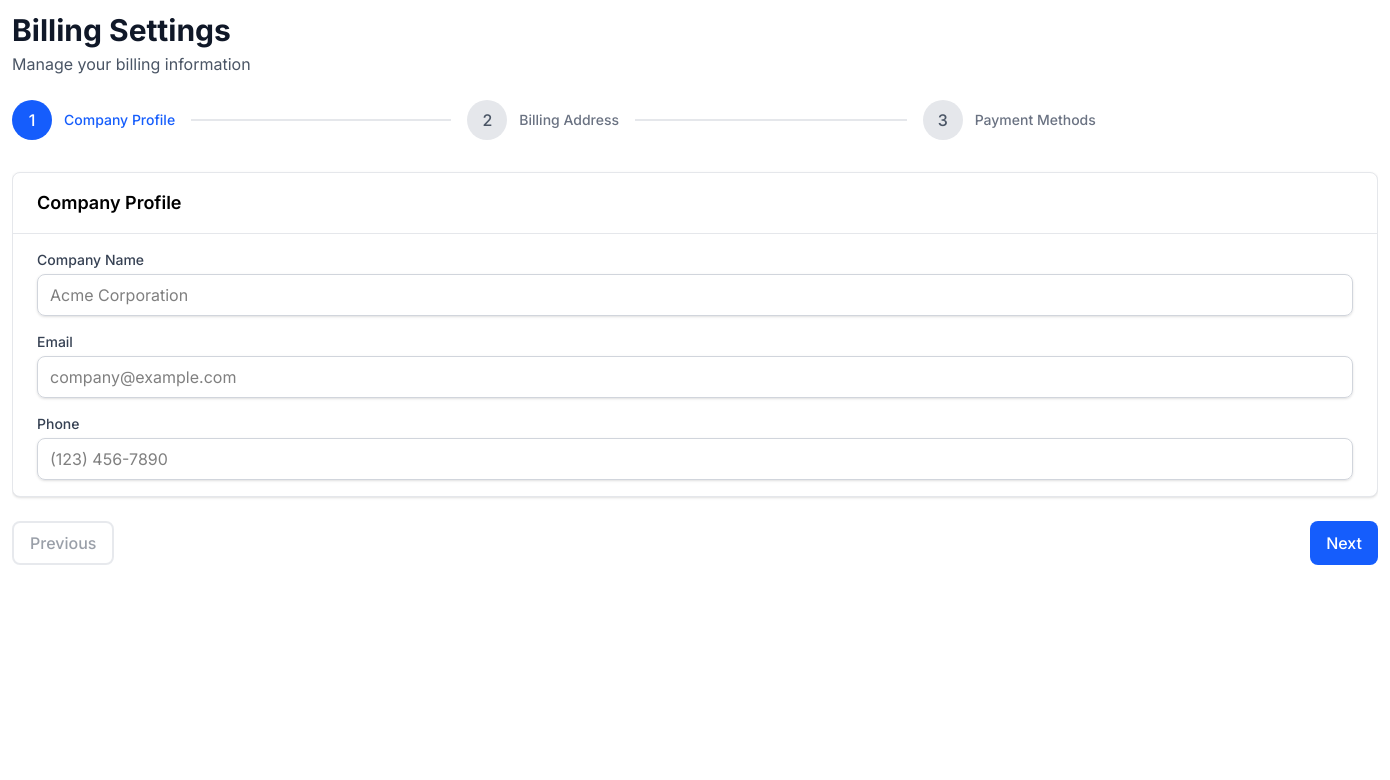
it: BillingFormPage › Step 1 - Company Profile › shows validation error when phone is empty
The width and height of the screenshot is (1390, 780).
In the field labelled "Company Name": (695, 295) x1=37 y1=274 x2=1353 y2=316, type "Test Company"
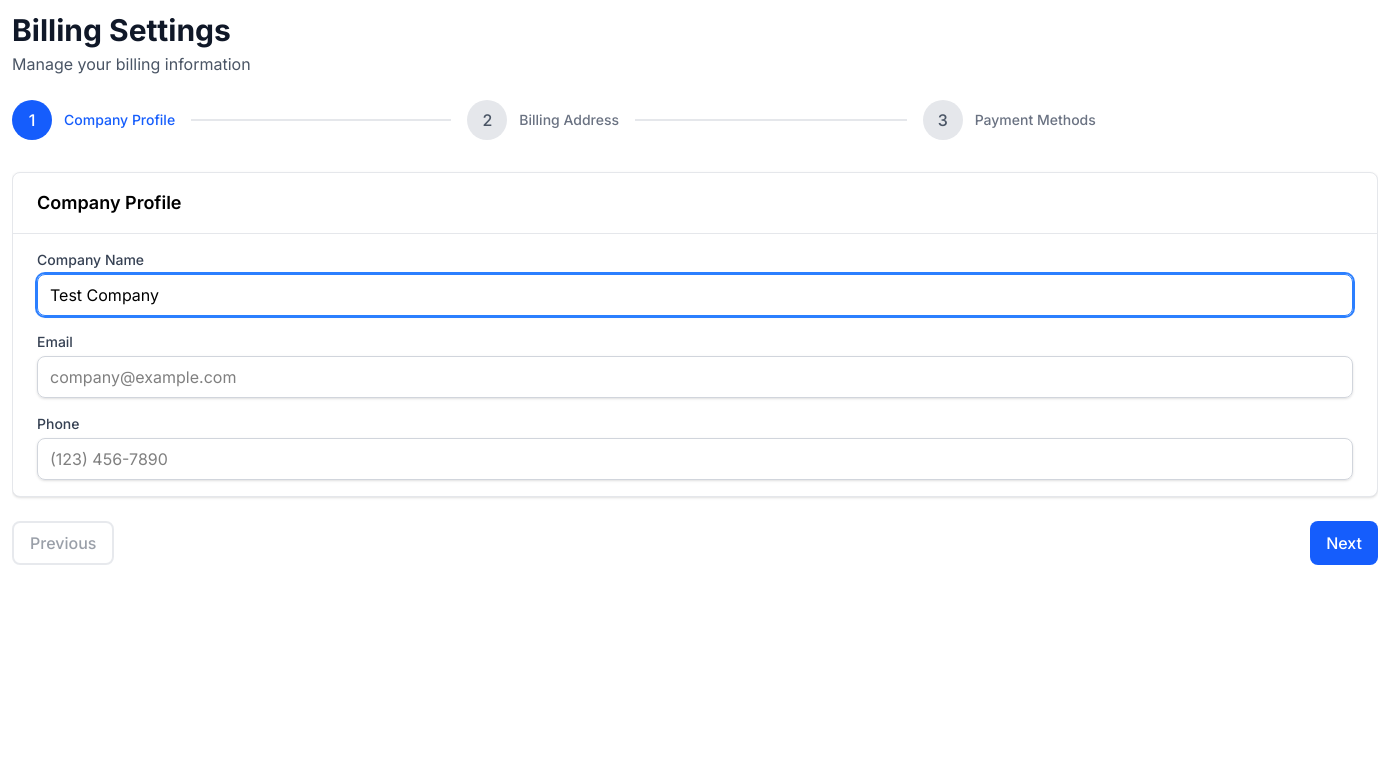
Click the button "Next": (1344, 543) x1=1310 y1=521 x2=1378 y2=565
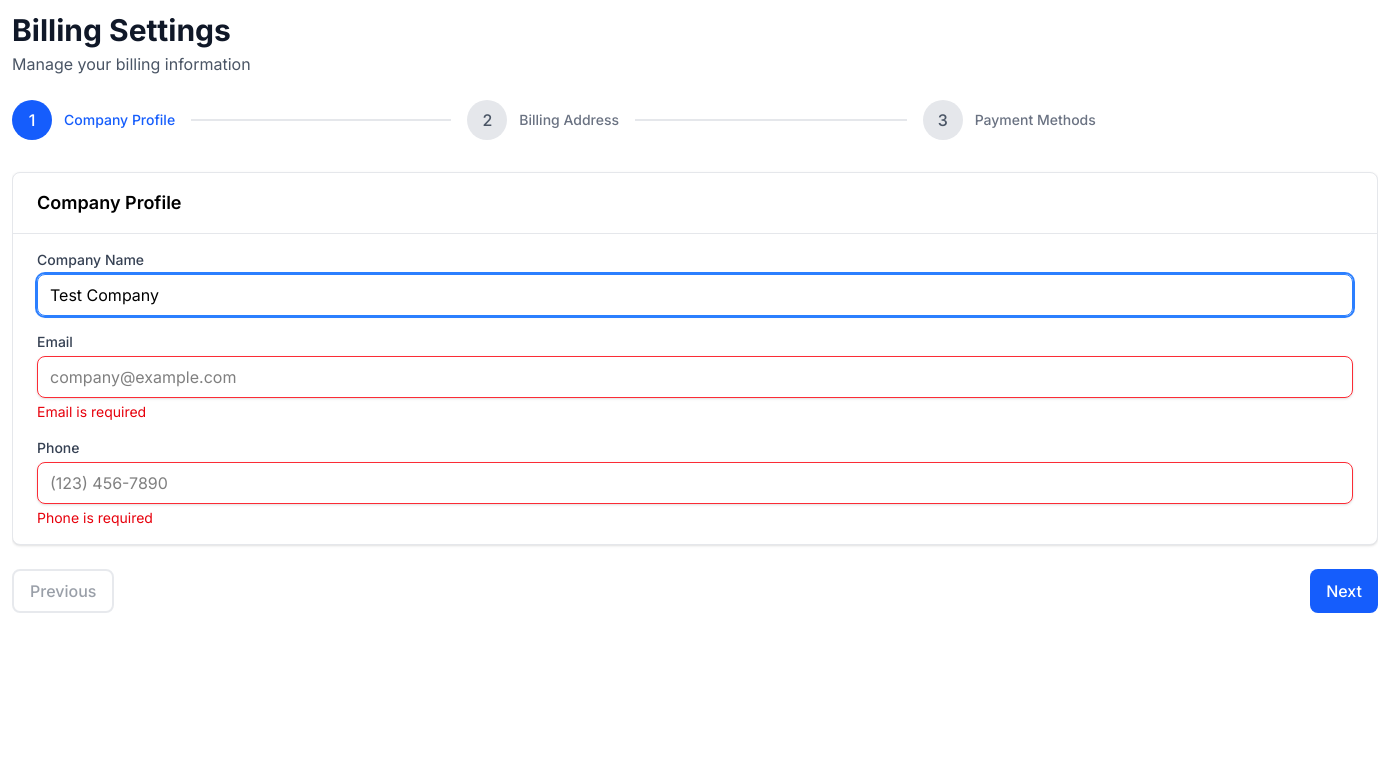
expect the text "Phone is required" is shown: met, box x1=37 y1=509 x2=153 y2=526
